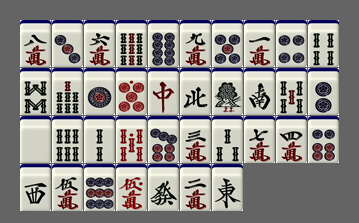0m: (116, 164, 147, 211)
0p: (116, 68, 147, 115)
0s: (116, 116, 147, 163)
1m: (244, 20, 275, 67)
1p: (84, 68, 115, 115)
1s: (212, 68, 243, 115)
1z: (212, 164, 243, 211)
2m: (180, 164, 211, 211)
2p: (308, 68, 339, 115)
2s: (84, 116, 115, 163)
2z: (244, 68, 275, 115)
3m: (180, 116, 211, 163)
3p: (52, 20, 83, 67)
3s: (212, 116, 243, 163)
3z: (20, 164, 51, 211)
4m: (276, 116, 307, 163)
4p: (276, 20, 307, 67)
4s: (308, 20, 339, 67)
4z: (180, 68, 211, 115)
5m: (52, 164, 83, 211)
5p: (212, 20, 243, 67)
5s: (276, 68, 307, 115)
5z: (20, 116, 51, 163)
6m: (84, 20, 115, 67)
6p: (308, 116, 339, 163)
6s: (52, 116, 83, 163)
6z: (148, 164, 179, 211)
7m: (244, 116, 275, 163)
7p: (148, 116, 179, 163)
7s: (52, 68, 83, 115)
7z: (148, 68, 179, 115)
8m: (20, 20, 51, 67)
8p: (148, 20, 179, 67)
8s: (20, 68, 51, 115)
9m: (180, 20, 211, 67)
9p: (84, 164, 115, 211)
9s: (116, 20, 147, 67)
